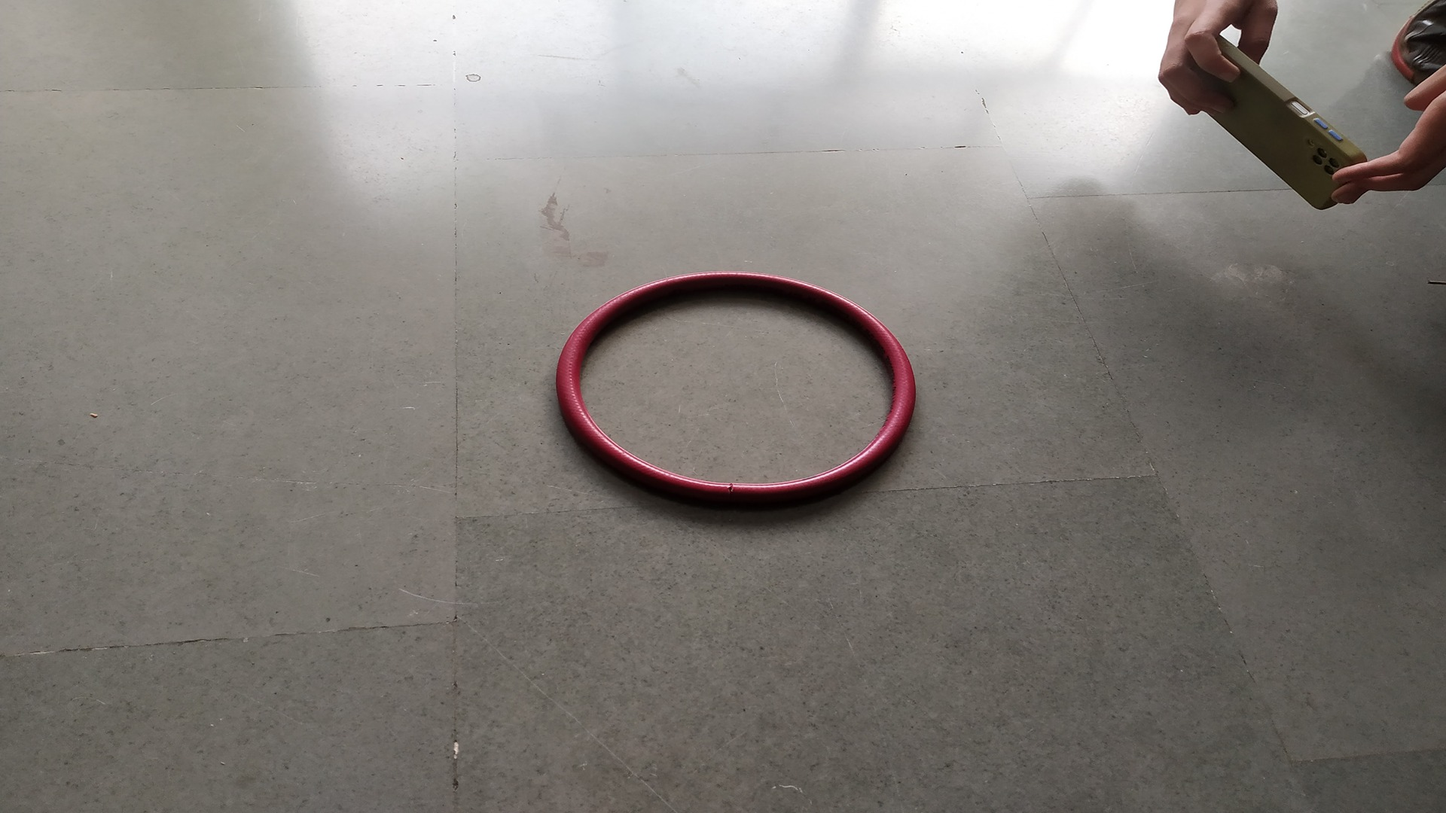Red ring: (557, 273, 916, 501)
